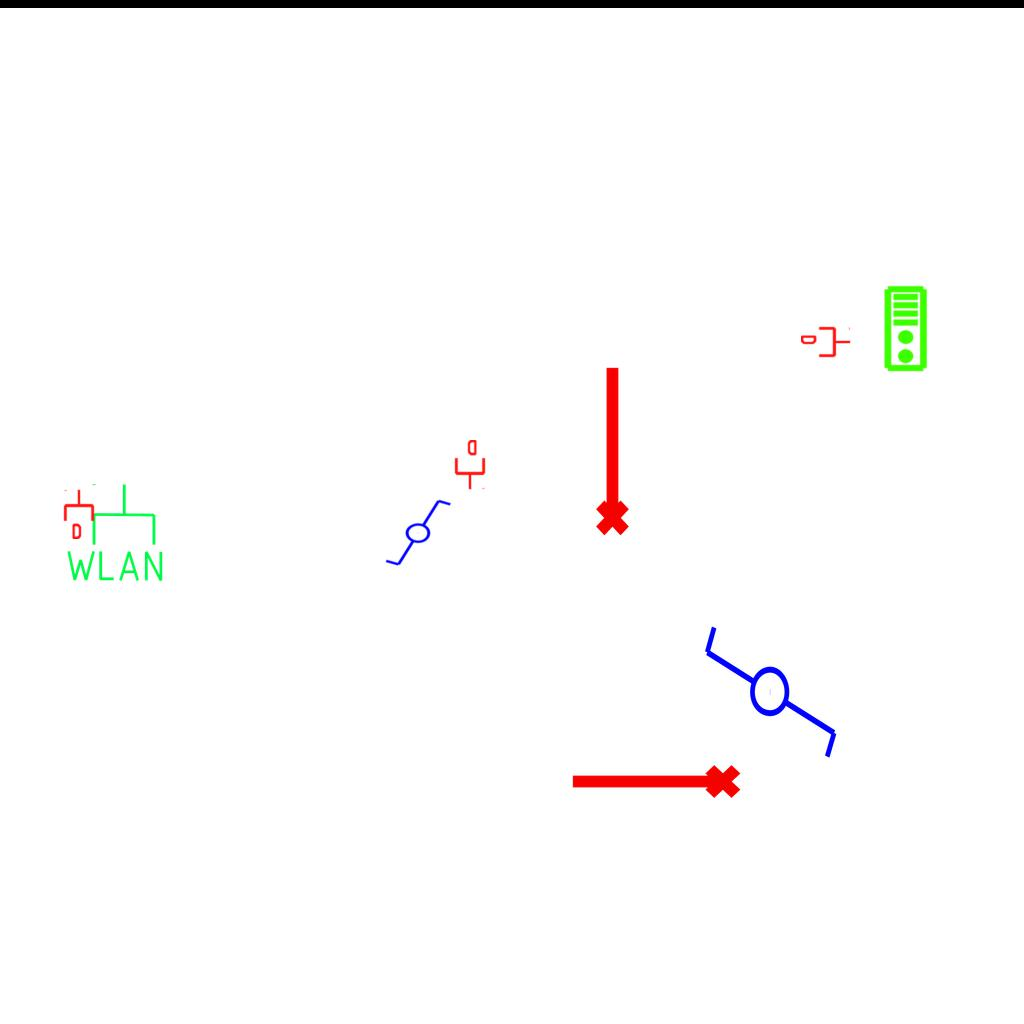ASR_Ansaugoeffnung: (567, 761, 743, 807), (587, 362, 633, 538)
Datenanschluss_einfach: (453, 440, 487, 490), (801, 325, 851, 359), (62, 489, 96, 539)
Gegensprechanlage_mit_Video: (883, 285, 930, 373)
WLAN: (62, 481, 167, 585)
Wechselschalter: (700, 605, 844, 762), (375, 496, 453, 568)
